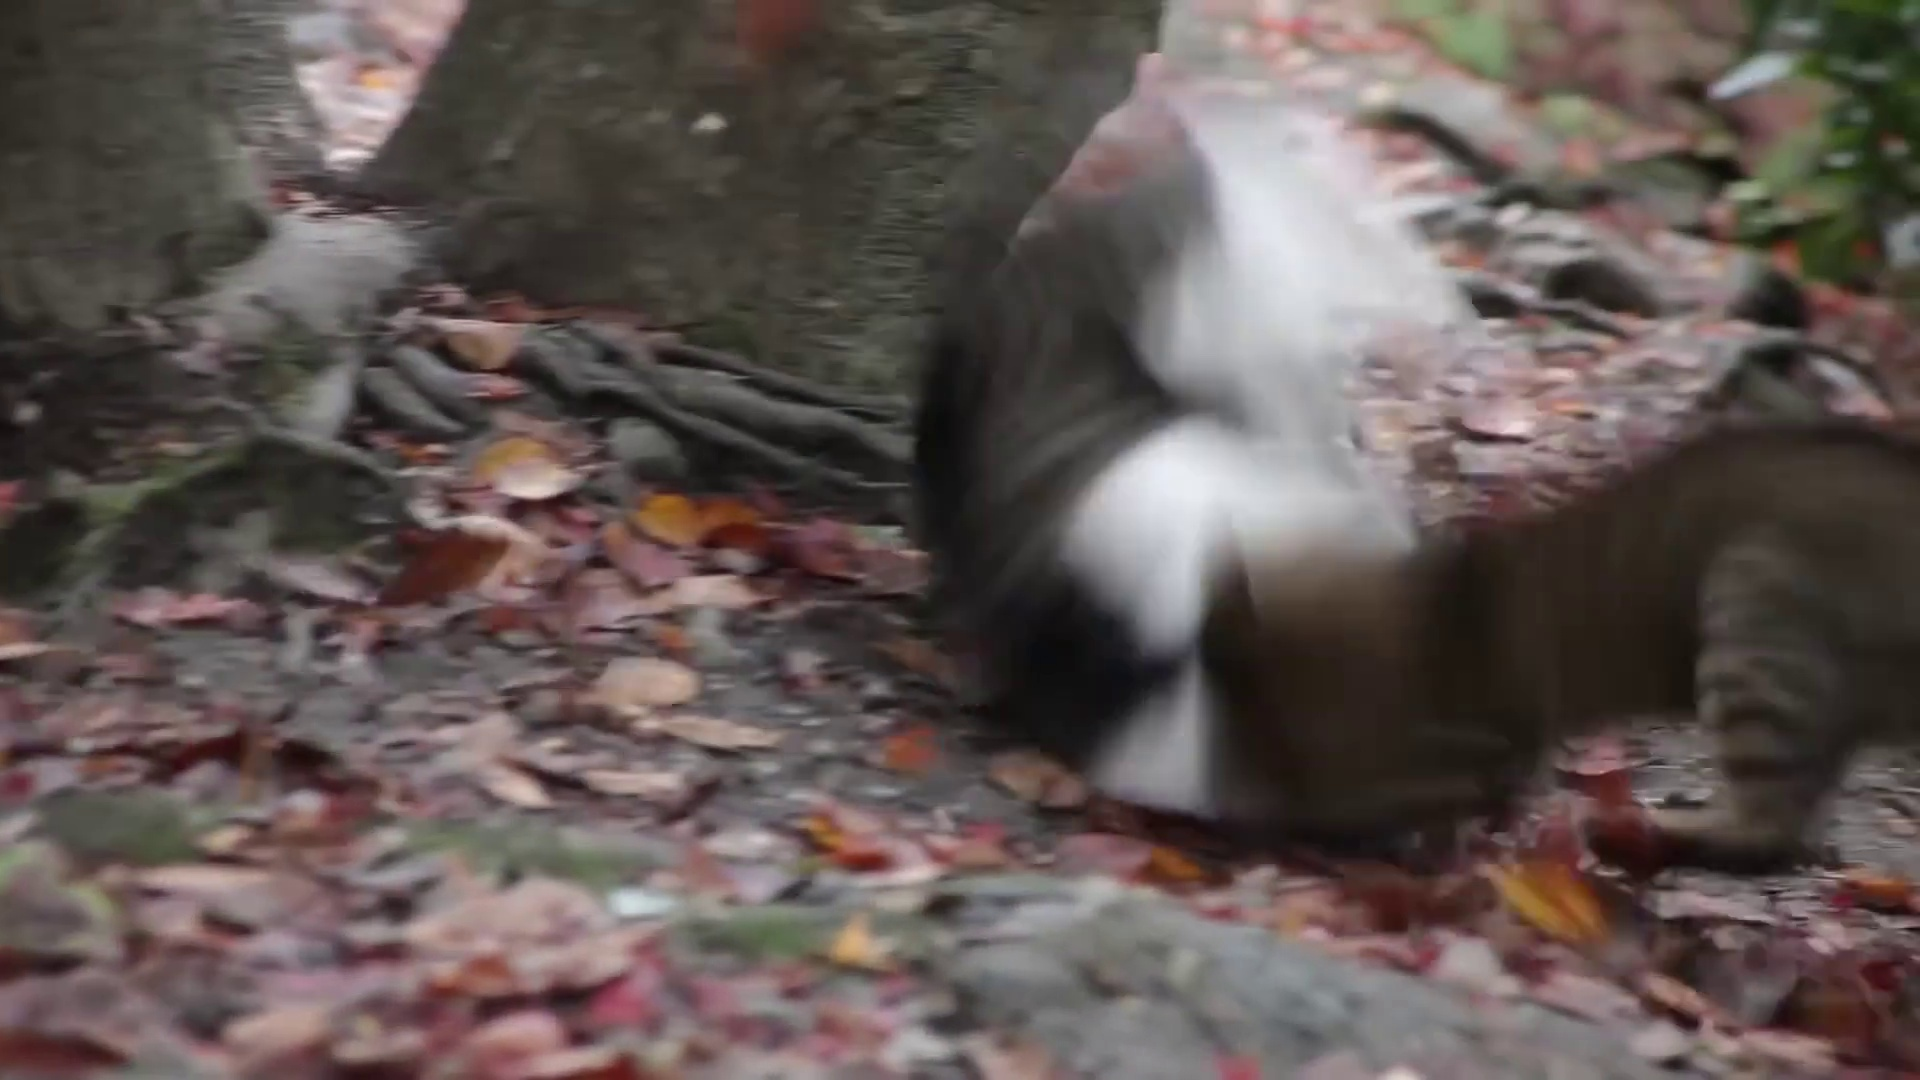black-white: (922, 94, 1425, 818)
pure black: (1203, 413, 1920, 836)
